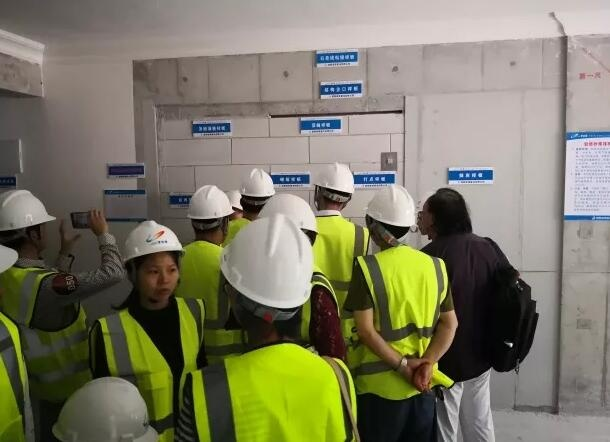none: (415, 182, 470, 242)
white: (218, 215, 312, 330), (116, 223, 183, 302), (3, 187, 52, 253), (364, 183, 417, 244), (183, 183, 229, 241), (312, 162, 354, 213), (237, 167, 276, 215)
